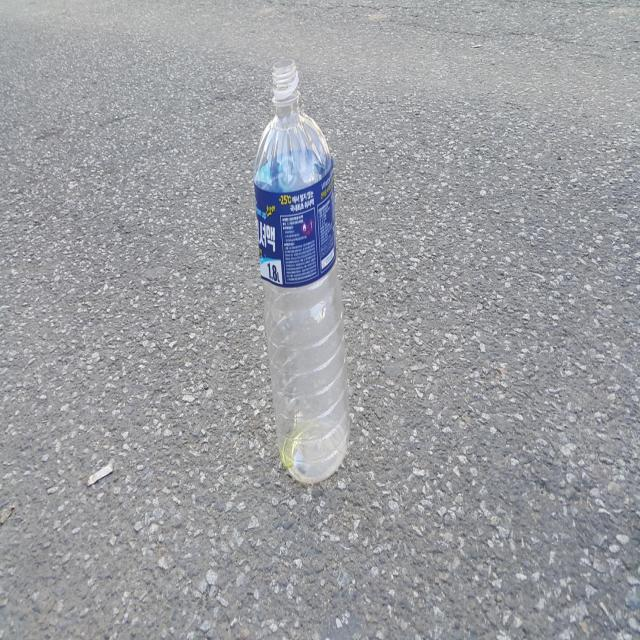plastic: (254, 57, 350, 483)
